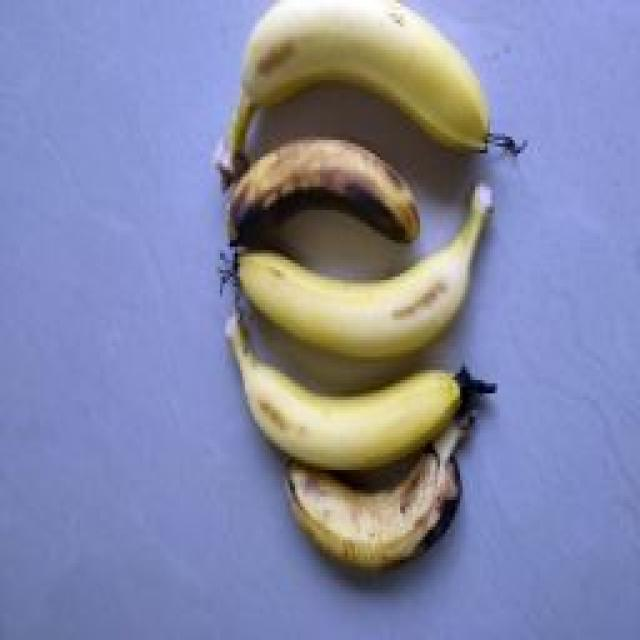Organik: (204, 188, 558, 365), (203, 0, 516, 185), (204, 329, 566, 466), (261, 425, 497, 589), (166, 148, 422, 256)
